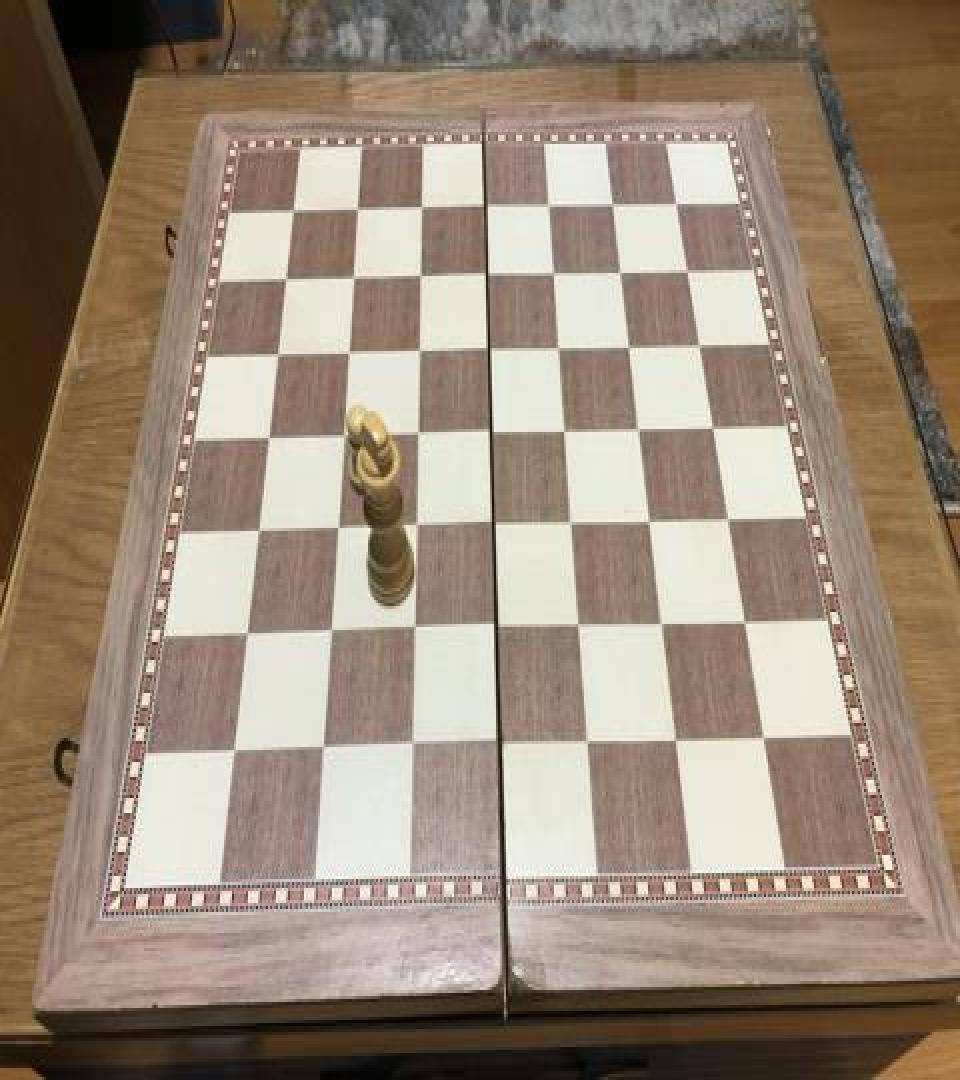xcorner: (246, 514, 270, 551), (731, 601, 755, 638), (233, 616, 257, 653), (661, 718, 685, 755), (667, 190, 691, 226), (604, 192, 628, 228), (540, 194, 564, 230), (476, 194, 500, 230), (412, 195, 436, 231), (348, 196, 372, 232), (284, 198, 308, 234), (677, 256, 701, 292), (611, 258, 635, 294), (478, 261, 502, 297), (410, 262, 434, 298), (343, 264, 367, 300), (276, 266, 300, 302), (689, 330, 713, 366), (619, 332, 643, 368), (549, 333, 573, 369), (479, 334, 503, 370), (408, 336, 432, 372), (338, 338, 362, 374), (267, 340, 291, 376), (701, 411, 725, 447), (554, 414, 578, 450), (480, 417, 504, 453), (406, 418, 430, 454), (331, 420, 355, 456), (257, 422, 281, 458), (715, 501, 739, 537), (638, 502, 662, 538), (560, 506, 584, 542), (482, 507, 506, 543), (403, 510, 427, 546), (325, 512, 349, 548), (649, 604, 673, 640), (566, 606, 590, 642), (483, 609, 507, 645), (400, 612, 424, 648), (317, 614, 341, 650), (748, 716, 772, 752), (573, 722, 597, 758), (485, 723, 509, 759), (397, 726, 421, 762), (308, 729, 332, 765), (219, 732, 243, 768), (544, 260, 568, 295), (628, 413, 652, 448)
